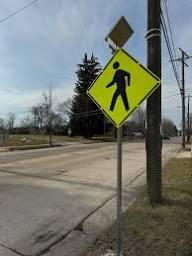Pedestrian Crossing: (80, 86, 144, 141)
